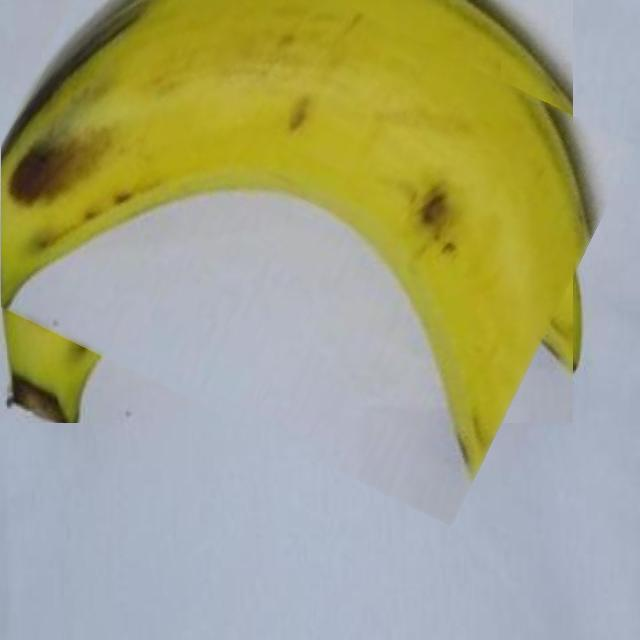Madura: (0, 0, 605, 475)
